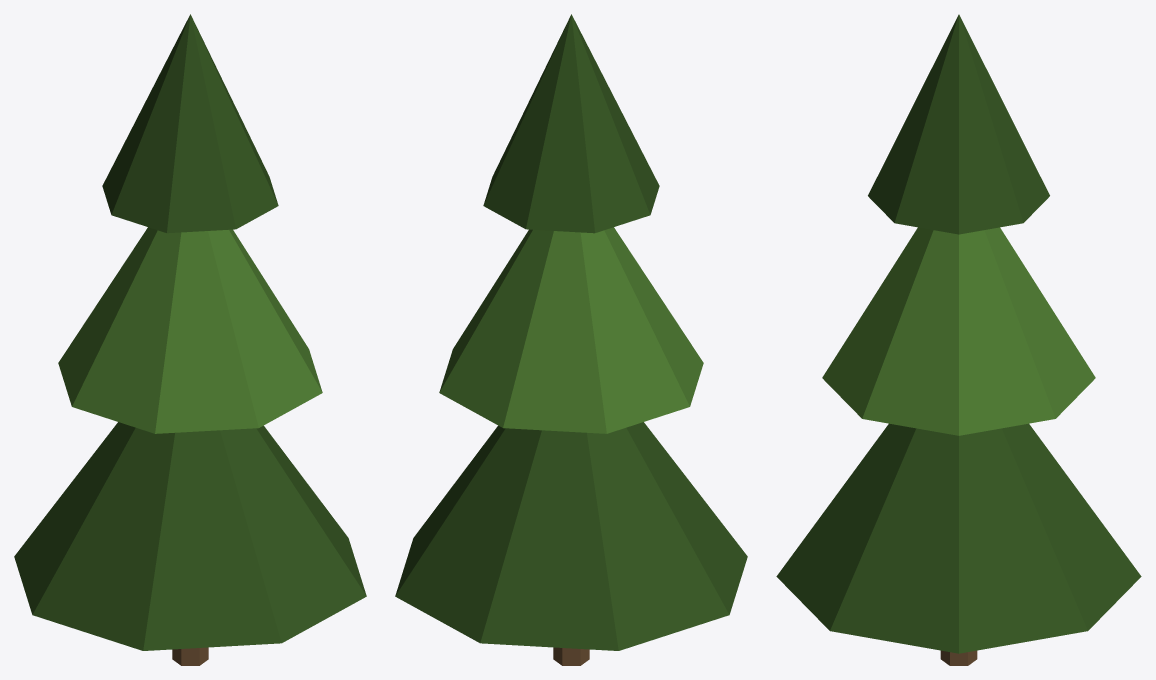
The model's file is landscape.conifer.glb.
3 views of the same model, side by side, from view 1: azimuth 30°, elevation 25°; view 2: azimuth 150°, elevation 25°; view 3: azimuth 270°, elevation 25° (orthographic).
Visible parts, largest first — view 1: landscape.conifer; view 2: landscape.conifer; view 3: landscape.conifer.
Boxes of the visible parts, left/top/right/bottom form: landscape.conifer: left=14, top=14, right=366, bottom=665; landscape.conifer: left=395, top=14, right=747, bottom=665; landscape.conifer: left=776, top=14, right=1141, bottom=665.
Bounding box in the file's own units: 2 × 3.9 × 2.
